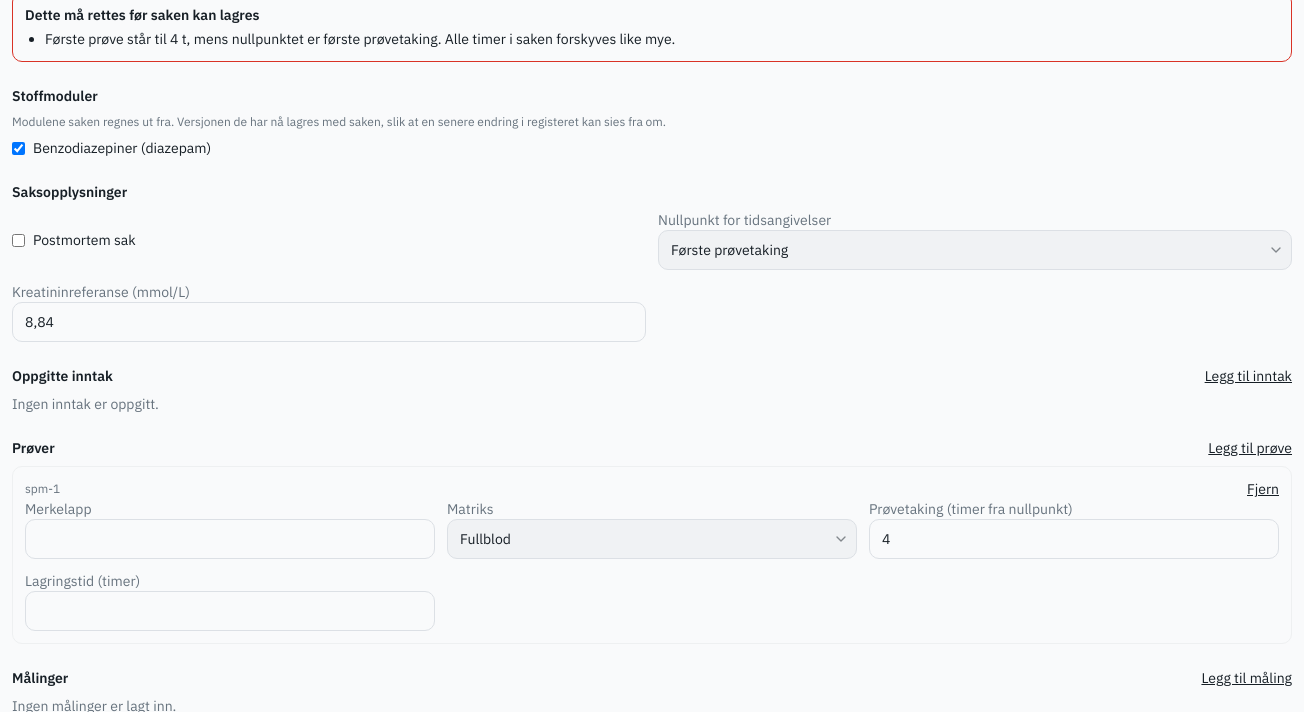
it: entering a case › will not file the old number while the field shows a half-typed one
Replace the text in the field labelled "Prøvetaking (timer fra nullpunkt)" with "-" at (1074, 539), box [869, 519, 1279, 559]
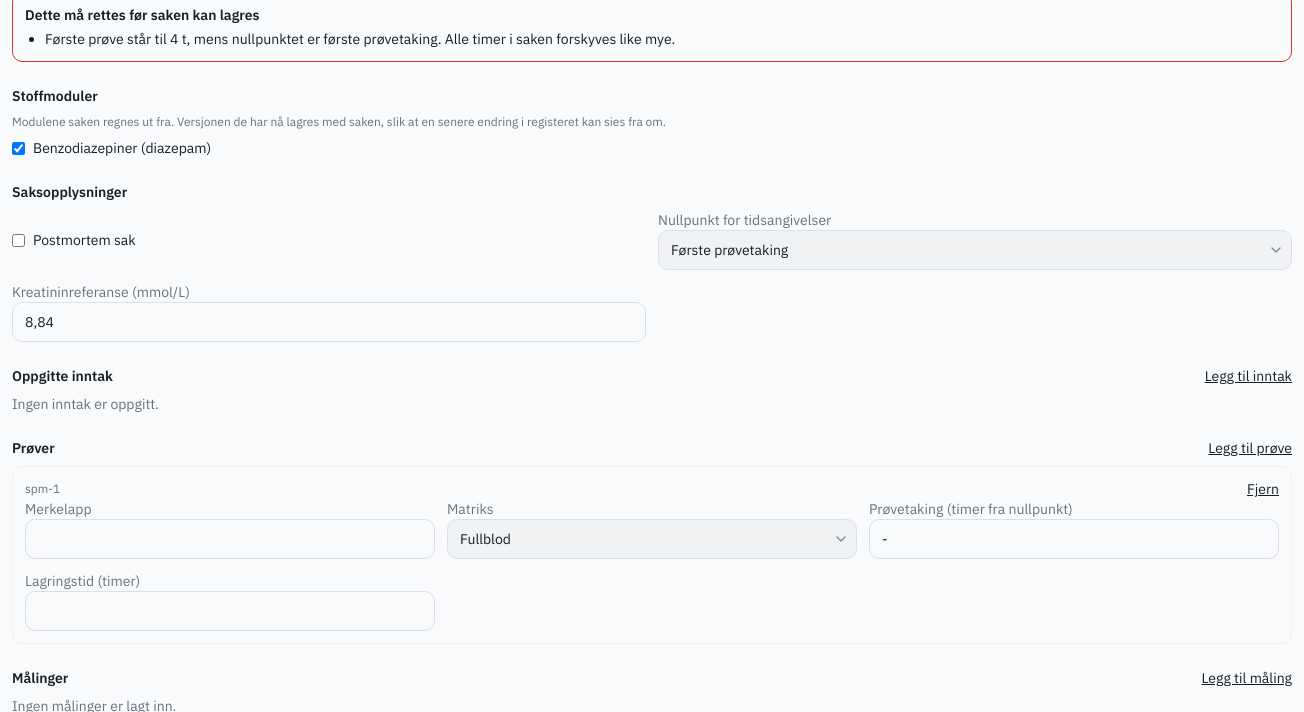
Replace the text in the field labelled "Prøvetaking (timer fra nullpunkt)" with "-5" at (1074, 539), box [869, 519, 1279, 559]
(page scrolled)
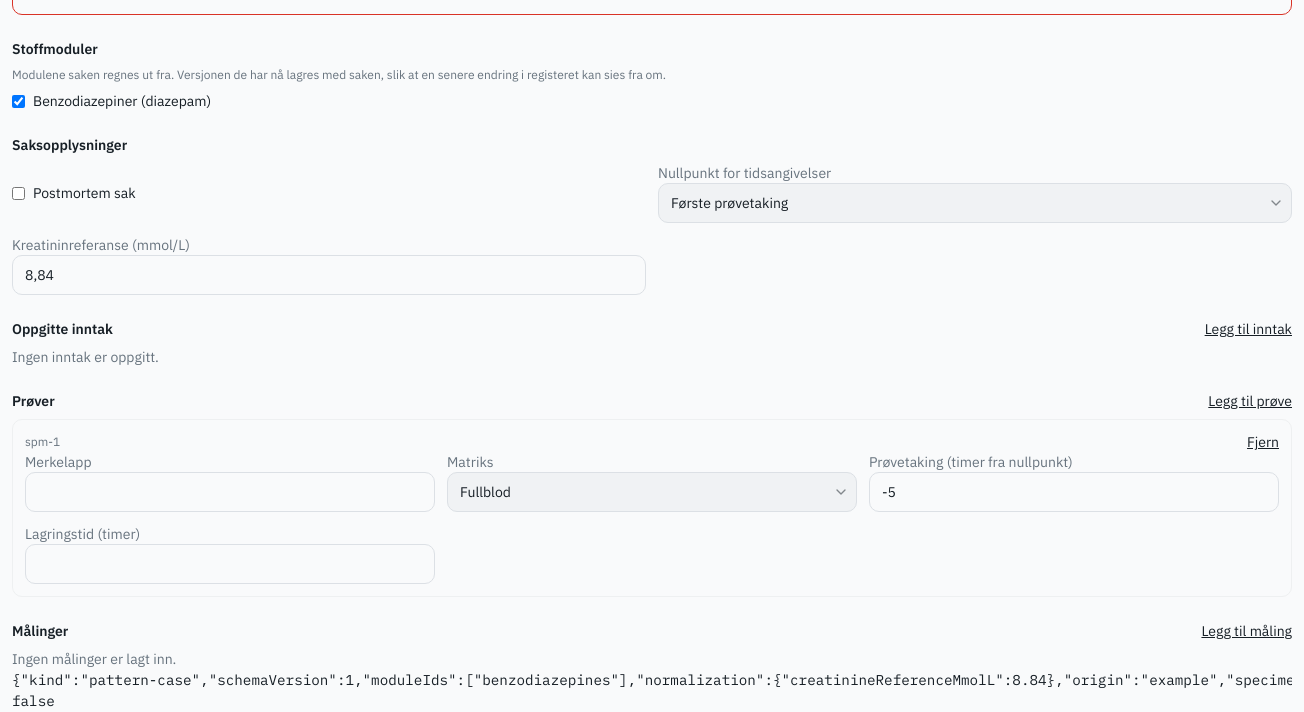
Now the text with test id "draft-problem" reads "false", box [12, 691, 55, 710]
